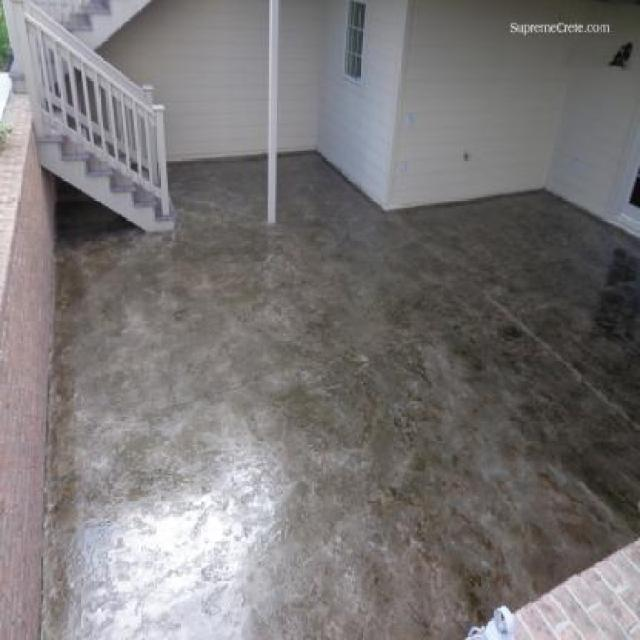stair: (7, 0, 180, 235)
